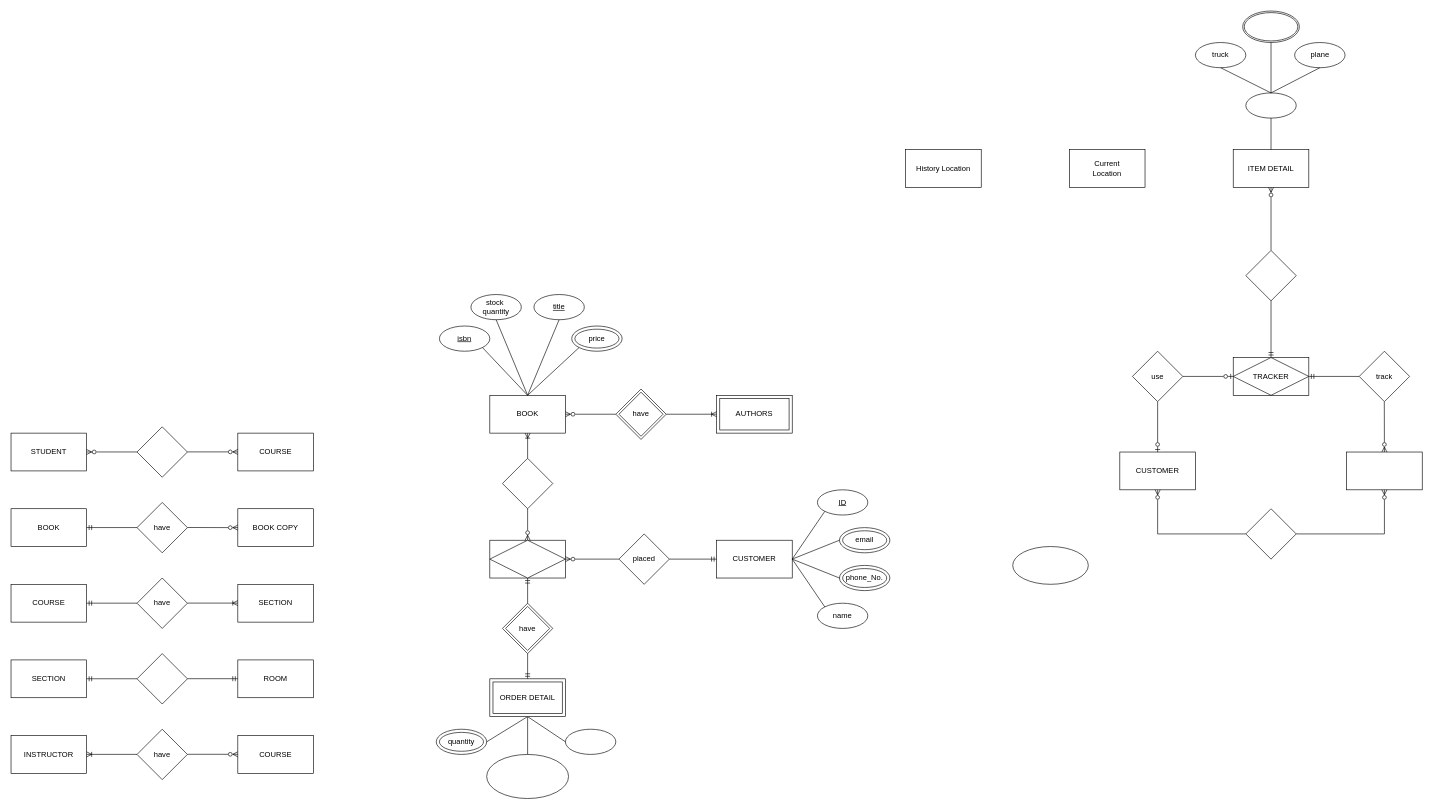
The diagram is 1433 pixels wide and 810 high, and some of its shapes have lost their labels. Each missing label, with the box of its shape:
contain: (502, 458, 553, 509)
ITEM: (1346, 451, 1422, 490)
Location: (1245, 92, 1296, 118)
ORDER: (489, 540, 565, 578)
order date: (565, 729, 616, 754)
register: (136, 426, 187, 477)
scheduled: (136, 653, 187, 704)
selling price at the time of the order: (486, 754, 569, 799)
ship: (1245, 508, 1296, 559)
store: (1245, 250, 1296, 301)
Warehouse Name: (1244, 12, 1298, 41)
